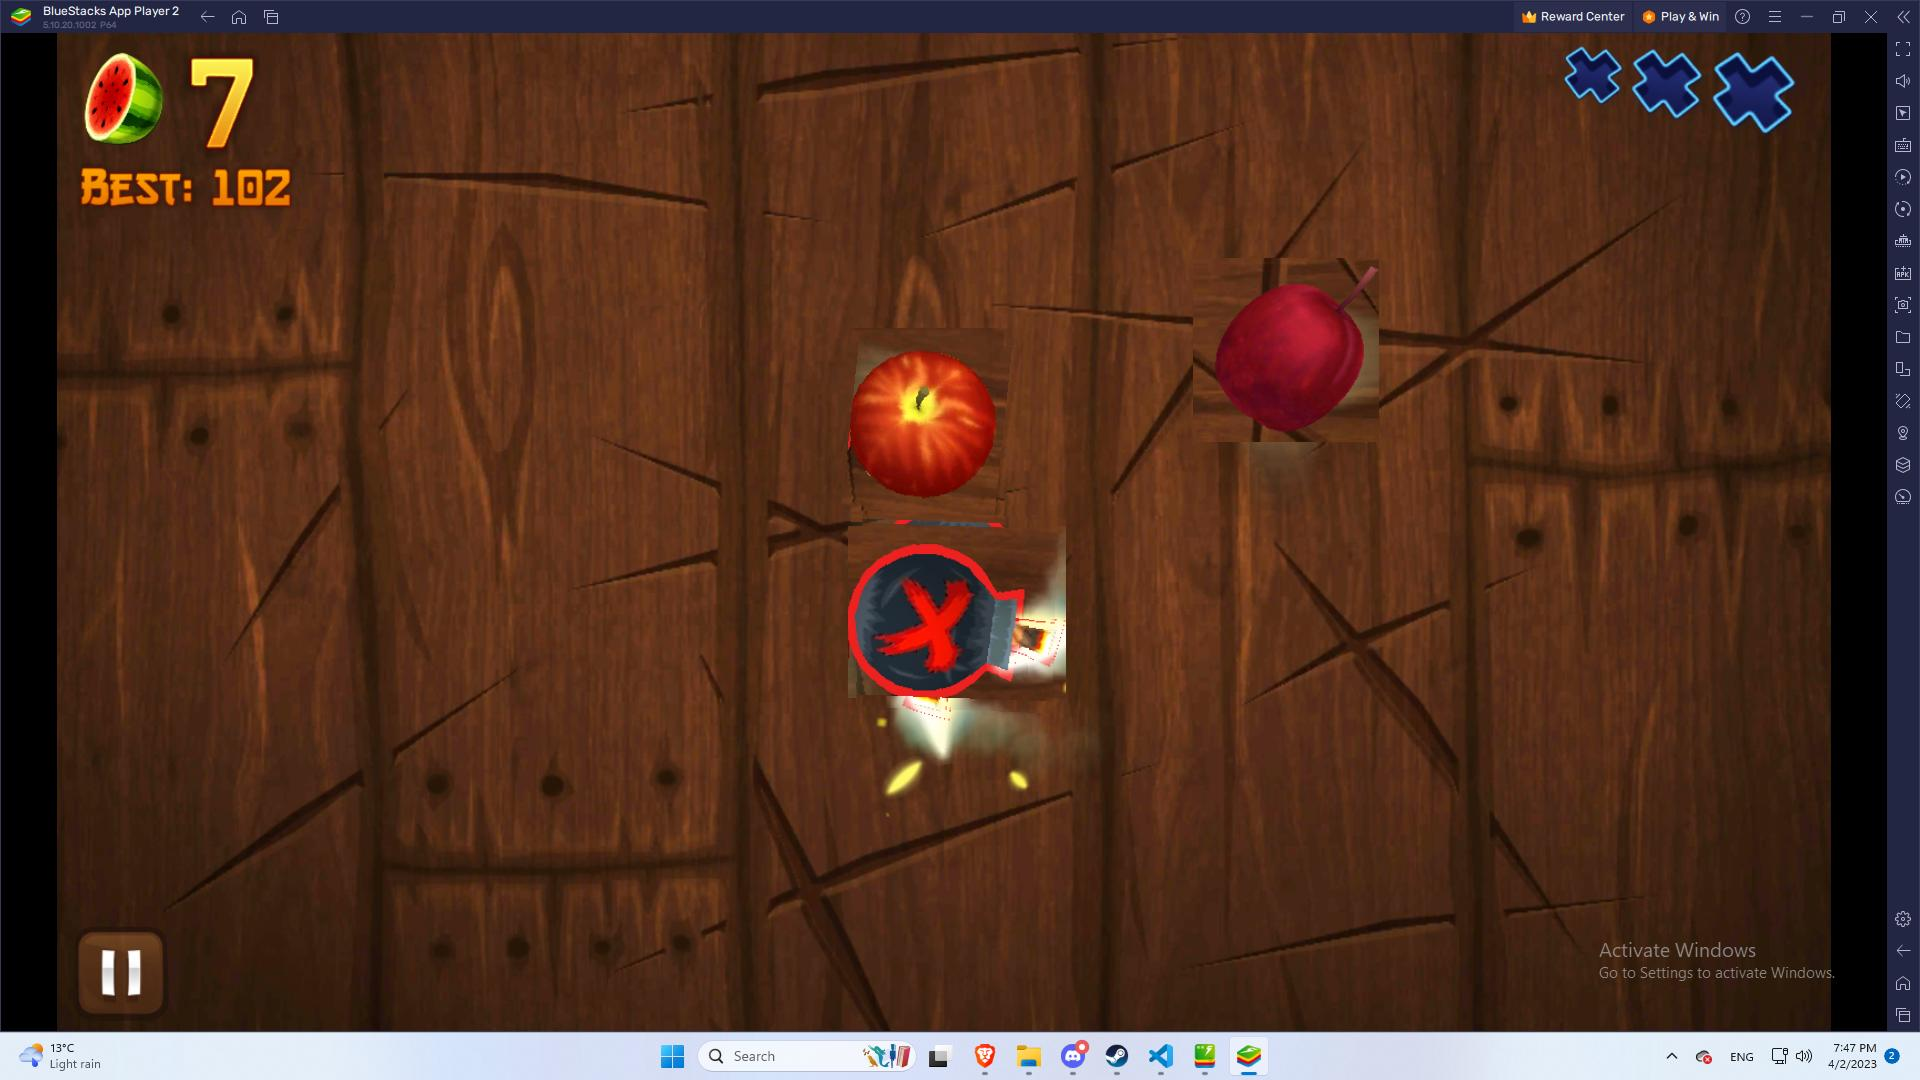bomb: (858, 513, 1058, 712)
fruit: (1193, 257, 1379, 443), (836, 335, 1018, 517)
